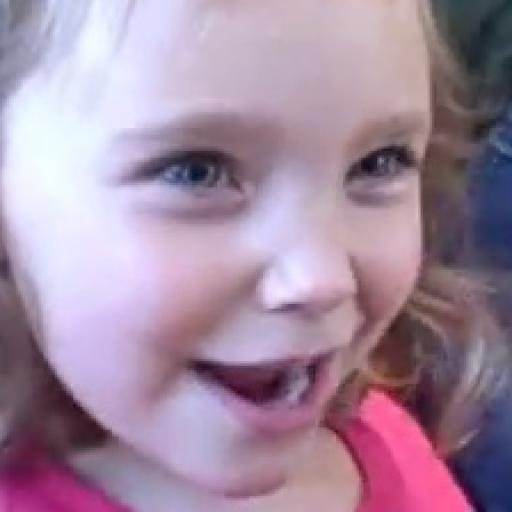Autism: (0, 0, 494, 512)
